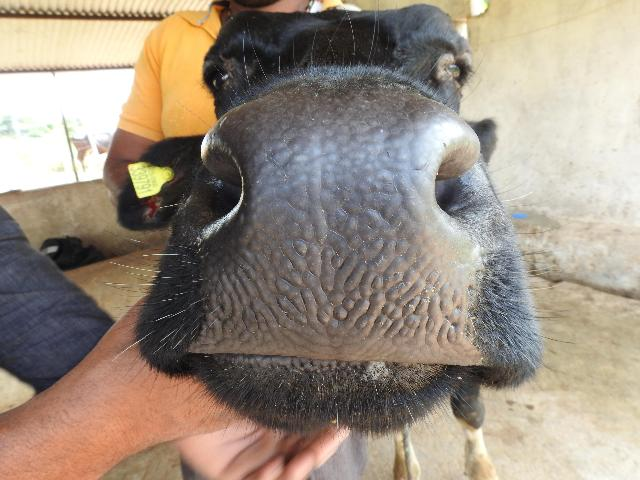Muzzle: (217, 116, 449, 354)
